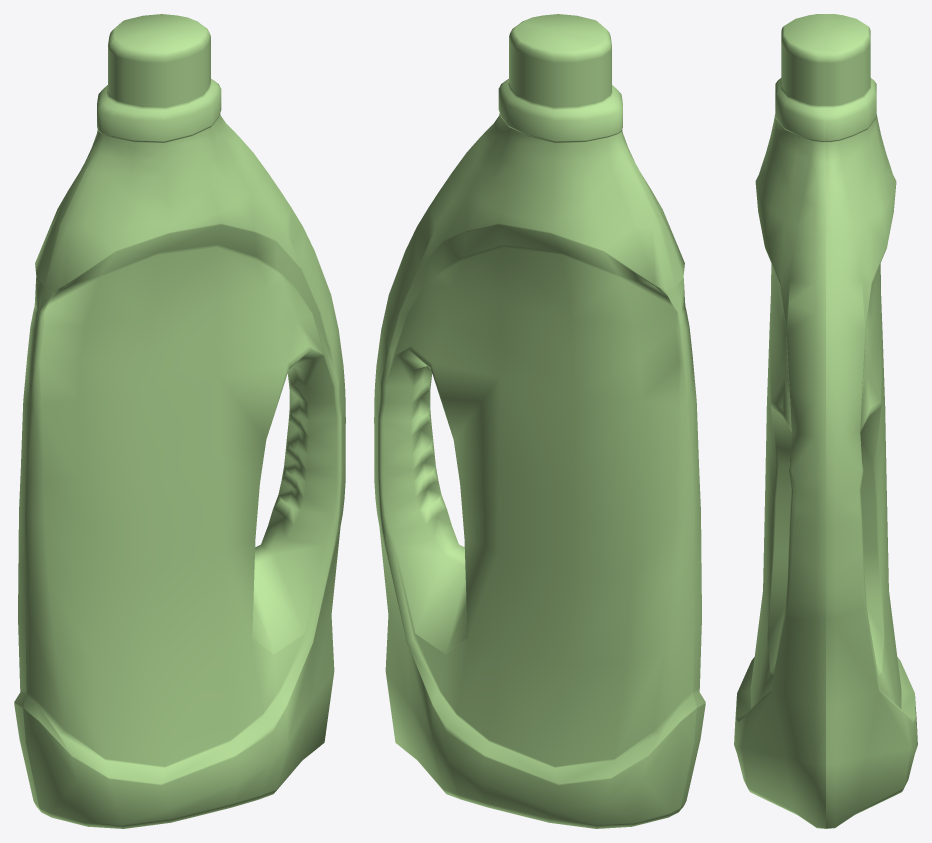
3 views of the same model, side by side, from view 1: azimuth 30°, elevation 25°; view 2: azimuth 150°, elevation 25°; view 3: azimuth 270°, elevation 25° (orthographic). The views are drawn at different scales.
Visible parts, largest first — view 1: Cylinder001; view 2: Cylinder001; view 3: Cylinder001.
Part boxes in pixels (<box>): Cylinder001: <box>14,14,345,828</box>; Cylinder001: <box>374,14,705,828</box>; Cylinder001: <box>734,14,917,828</box>.
Size of the model in its own units: 17.01 by 38.36 by 8.82.
